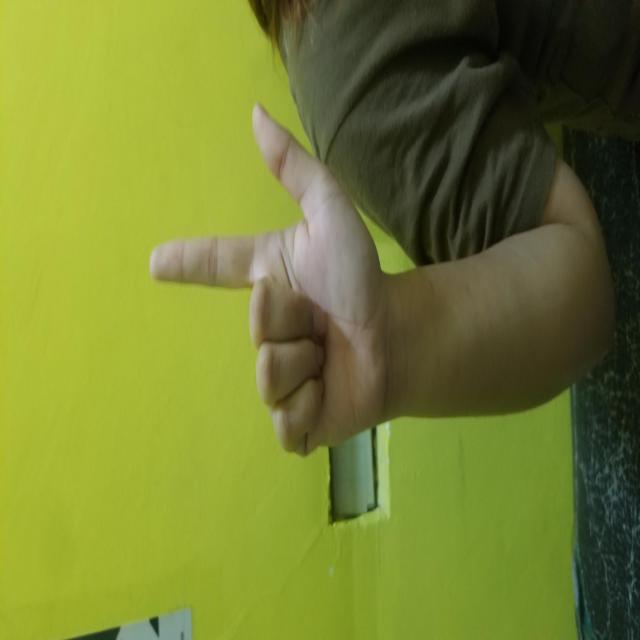L: (182, 146, 538, 390)
